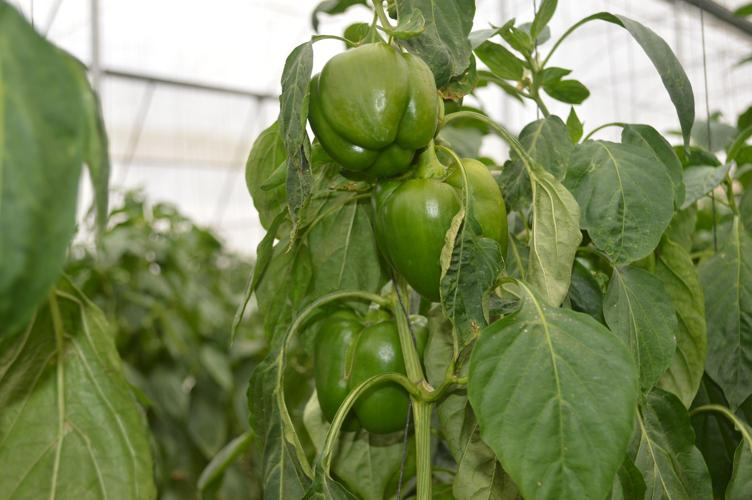BellPepper: (372, 159, 507, 301), (307, 44, 447, 172), (313, 309, 425, 435)
